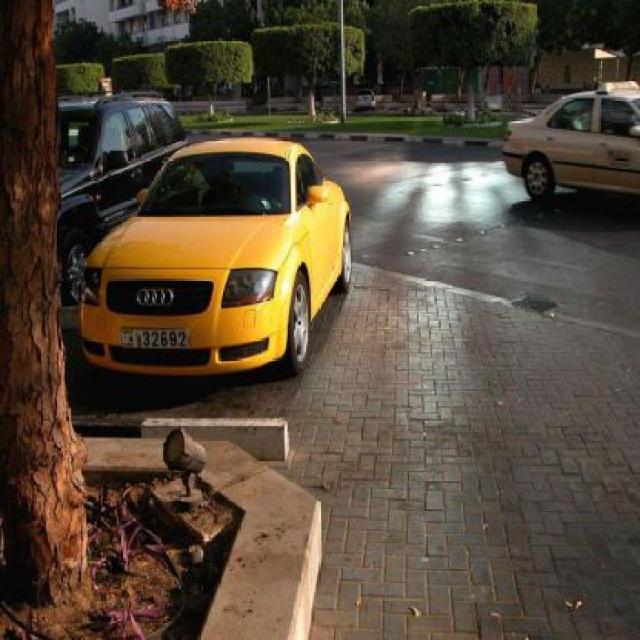License-Plates: (121, 328, 189, 349)
